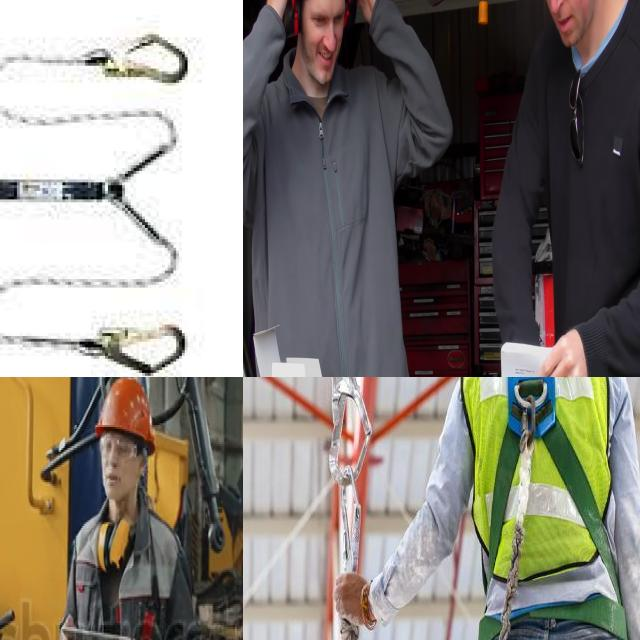Ear-protection: (262, 0, 389, 107), (96, 518, 131, 580)
Harness: (481, 377, 620, 598), (478, 596, 628, 640)
No_Glasses: (302, 0, 347, 37)
glasses: (97, 429, 142, 464)
head_helmet: (94, 377, 156, 443)
person: (53, 377, 204, 640)
